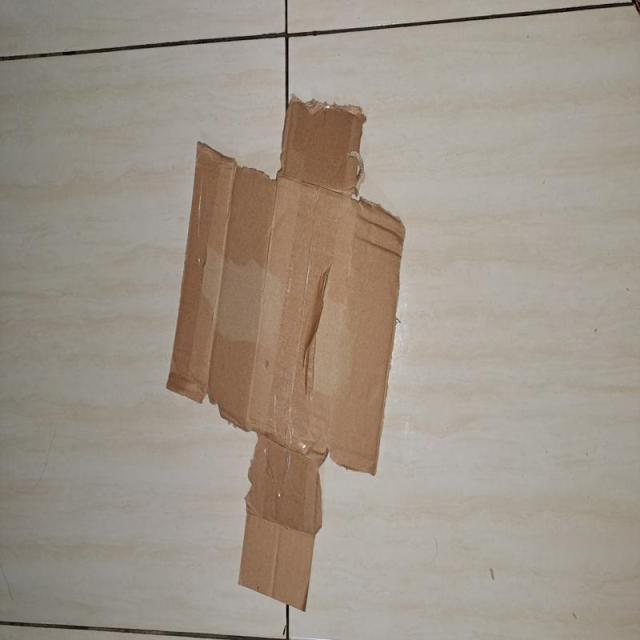Organik: (169, 70, 412, 620)
